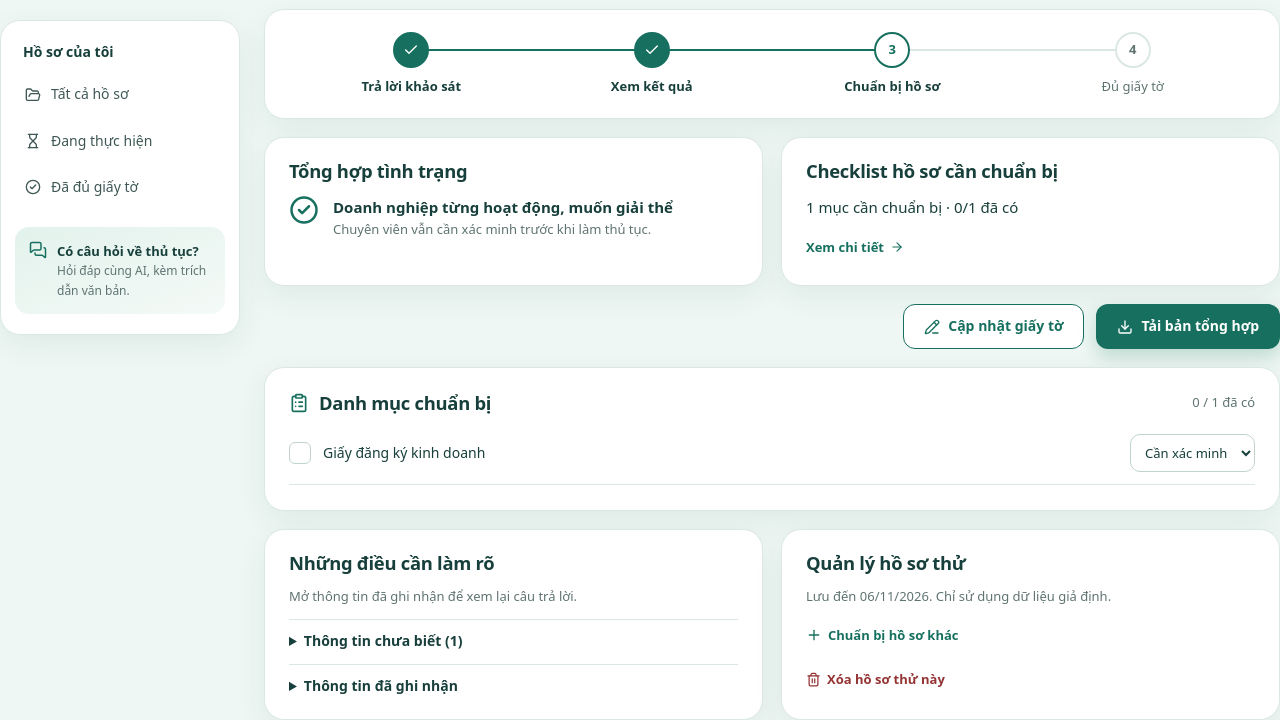
Test: Chuẩn bị hồ sơ khảo sát › không xóa hồ sơ trước bước xác nhận và cho phép giữ lại
(page scrolled)
Click the button "Xóa hồ sơ thử này" at [886, 679], box [806, 664, 1255, 696]
(page scrolled)
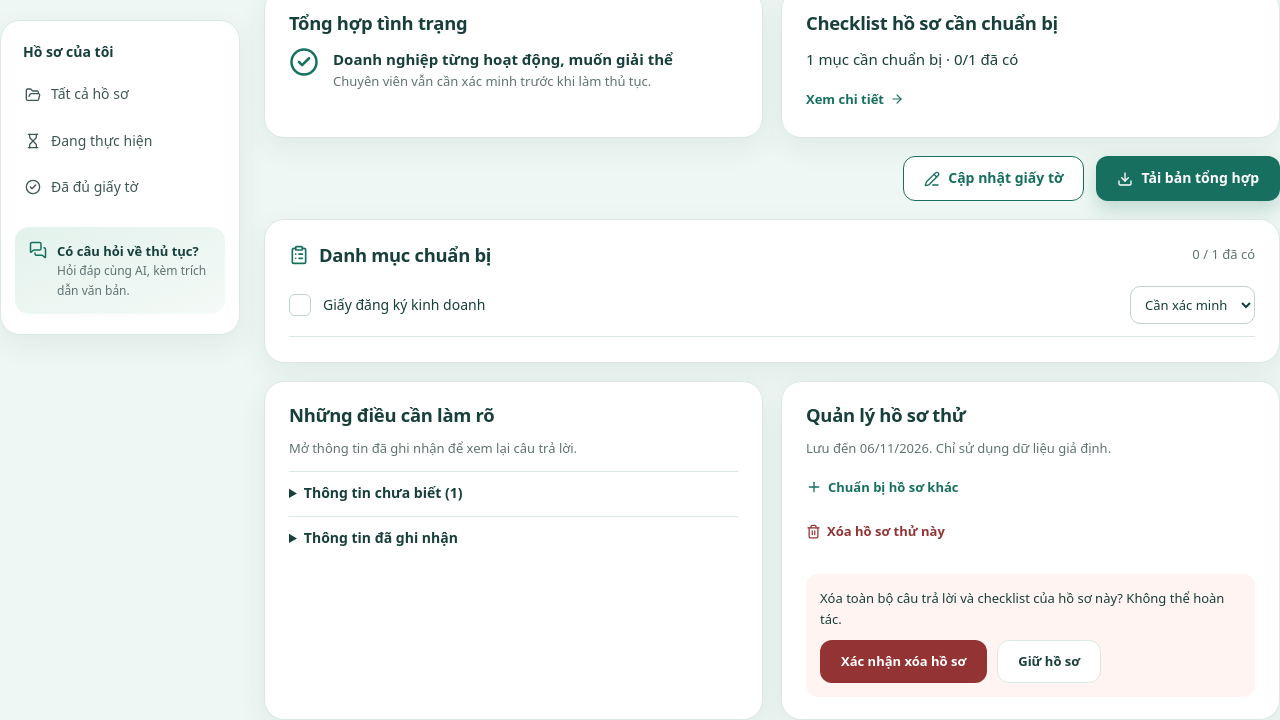
Click the button "Giữ hồ sơ" at [1049, 661], box [997, 640, 1101, 683]
(page scrolled)
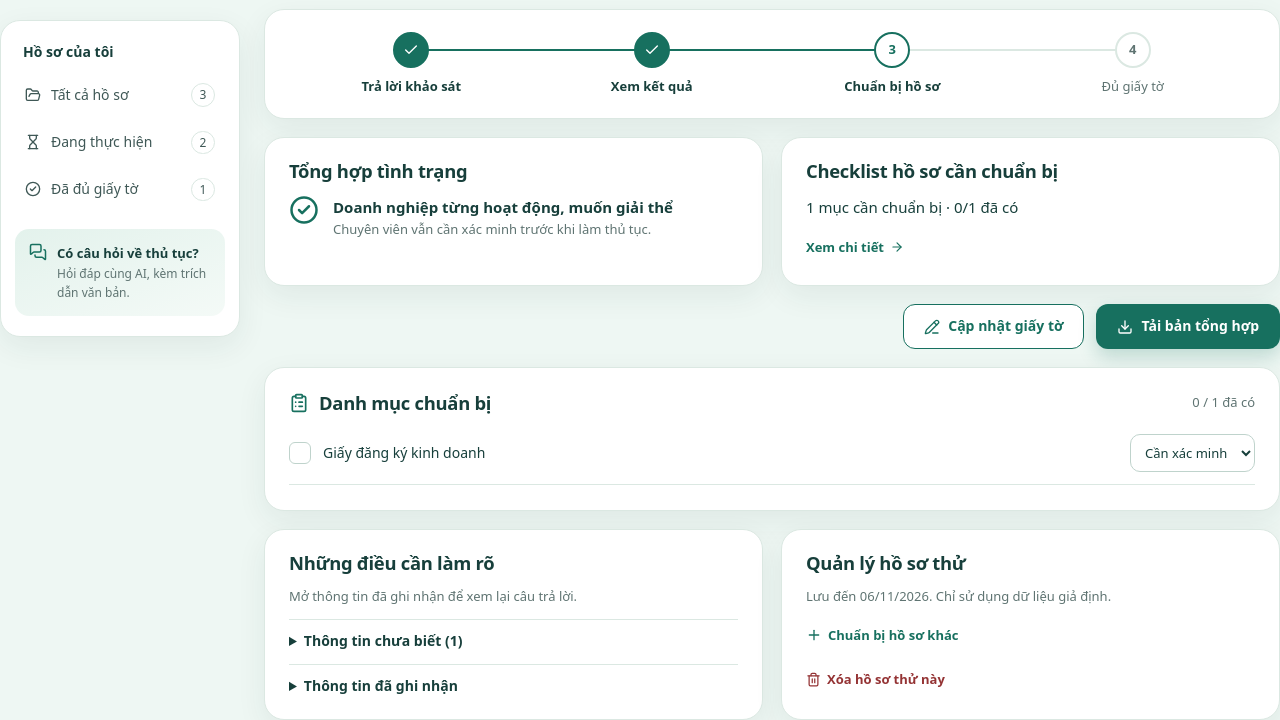
Result: the button "Xác nhận xóa hồ sơ" is gone
